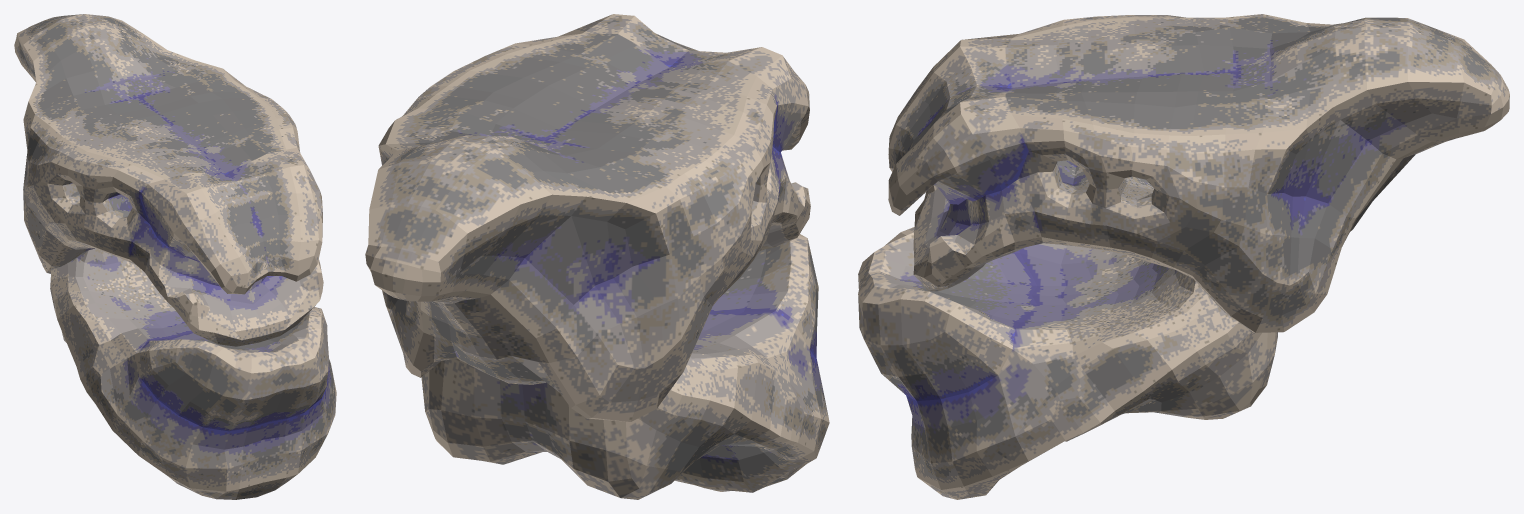
The model's file is Skeleton Skull.fbx.
3 renders of one model, left to right at view 1: azimuth 30°, elevation 25°; view 2: azimuth 150°, elevation 25°; view 3: azimuth 270°, elevation 25°, orthographic. The views are drawn at different scales.
Visible parts, largest first — view 1: Leviathan_Skull_Reto.003, Leviathan_Skull_Reto.005; view 2: Leviathan_Skull_Reto.003, Leviathan_Skull_Reto.005; view 3: Leviathan_Skull_Reto.003, Leviathan_Skull_Reto.005.
Boxes of the visible parts, x1,y1,x2,y2 form: Leviathan_Skull_Reto.003: [14, 14, 323, 346]; Leviathan_Skull_Reto.005: [50, 248, 336, 499]; Leviathan_Skull_Reto.003: [365, 14, 810, 421]; Leviathan_Skull_Reto.005: [421, 234, 829, 499]; Leviathan_Skull_Reto.003: [888, 14, 1509, 332]; Leviathan_Skull_Reto.005: [858, 227, 1277, 499].
Size of the model in its own units: 357 by 497 by 643.
